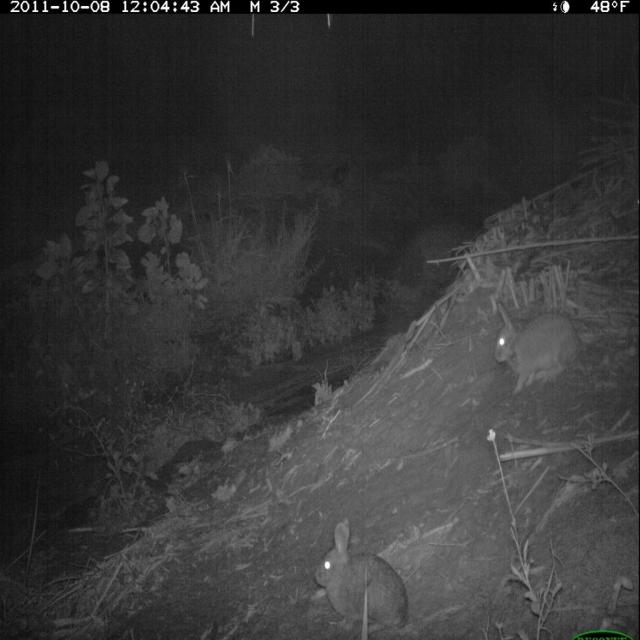rabbit: (306, 514, 417, 638), (491, 293, 586, 399)
